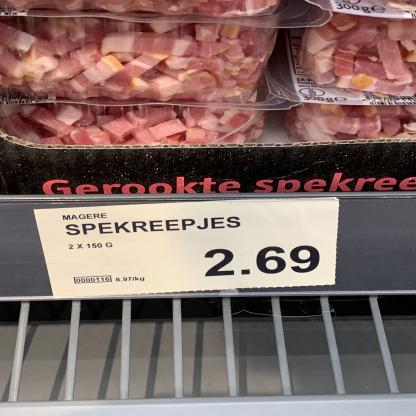prtg: (35, 199, 339, 300)
